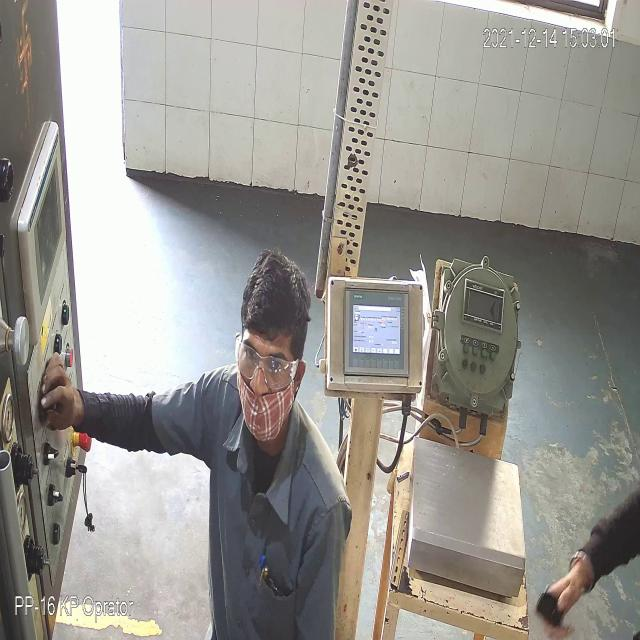glasses: (237, 344, 302, 391)
